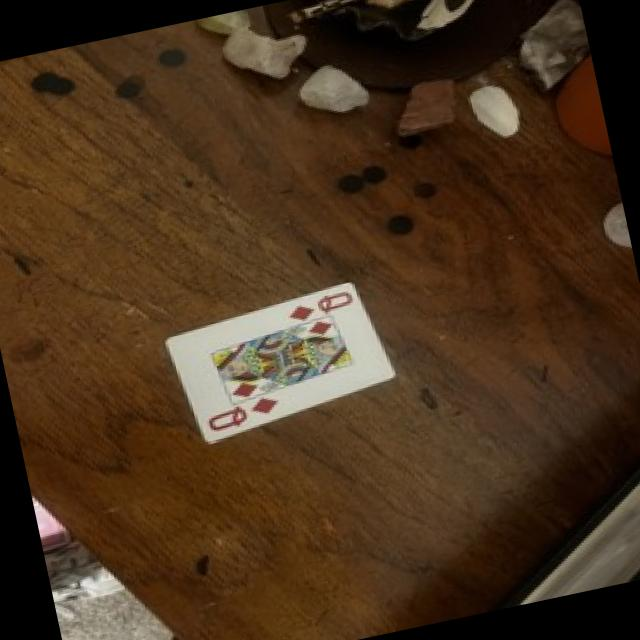Queen of diamonds: (166, 284, 394, 443)
